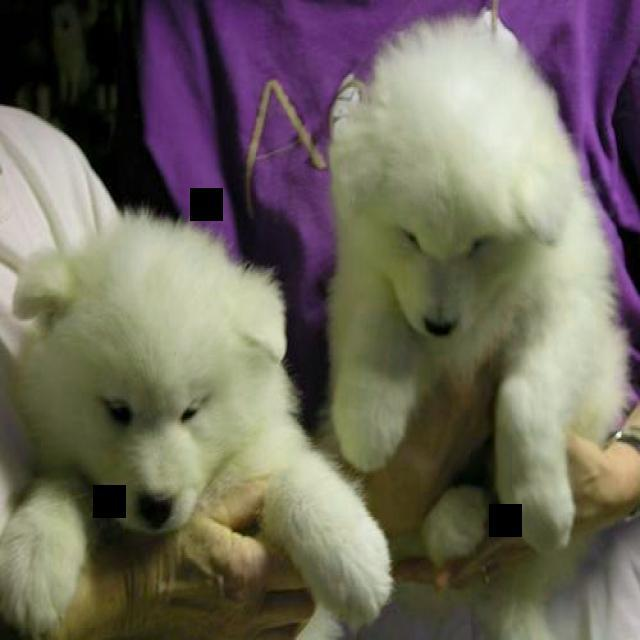puppy-dog: (0, 205, 394, 640), (328, 10, 630, 563)
